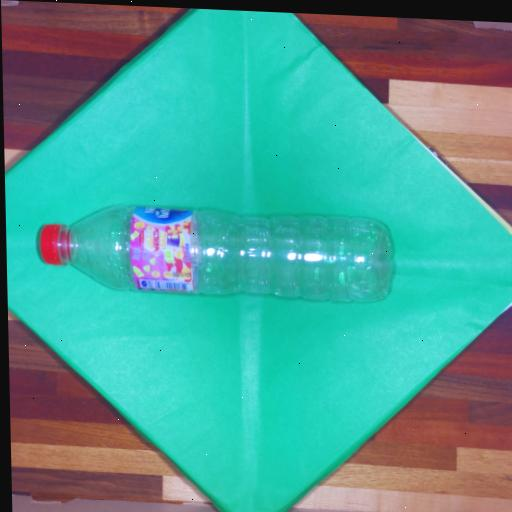bottle: (25, 190, 410, 313)
